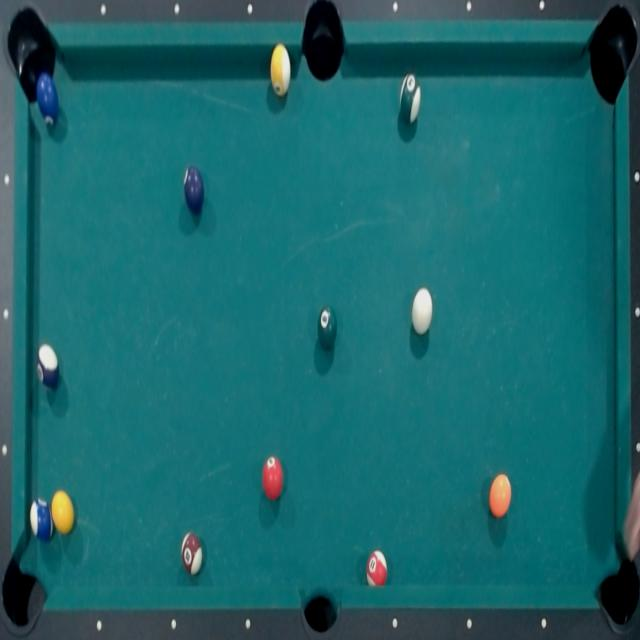blue_solid: (36, 72, 60, 130)
blue_stripe: (28, 497, 54, 542)
cue_ball: (409, 285, 435, 337)
green_solid: (316, 302, 338, 351)
green_stripe: (398, 73, 422, 126)
maroon_stripe: (179, 530, 205, 576)
orange_solid: (488, 472, 512, 520)
player_hand: (617, 470, 640, 566)
purple_solid: (181, 163, 206, 217)
purple_stripe: (35, 341, 60, 391)
red_solid: (262, 454, 284, 502)
red_stripe: (364, 549, 388, 588)
yellow_solid: (51, 488, 76, 536)
yellow_stripe: (269, 42, 293, 99)
